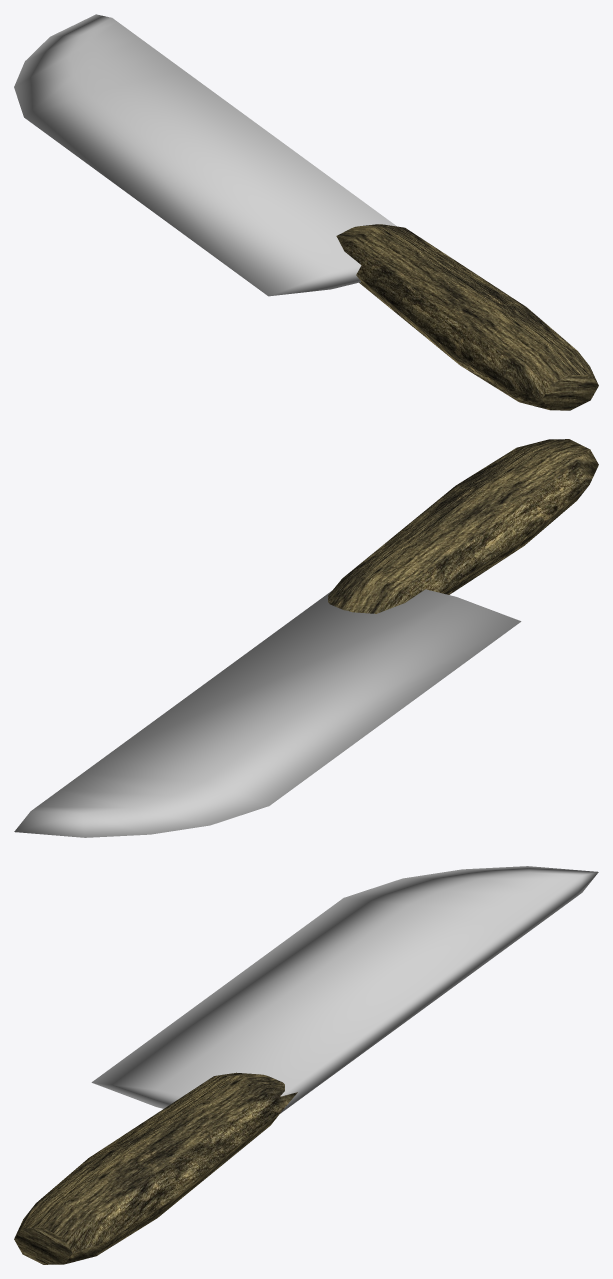
File: knife.fbx
3 renders of one model, top to bottom at view 1: azimuth 30°, elevation 25°; view 2: azimuth 150°, elevation 25°; view 3: azimuth 330°, elevation 25°, orthographic. The views are drawn at different scales.
Visible parts, largest first — view 1: Cylinder_004; view 2: Cylinder_004; view 3: Cylinder_004.
Boxes of the visible parts, x1,y1,x2,y2 form: Cylinder_004: (14, 14, 598, 410); Cylinder_004: (14, 439, 598, 837); Cylinder_004: (14, 866, 598, 1264).
Size of the model in its own units: 2.19 by 0.7097 by 10.98.
